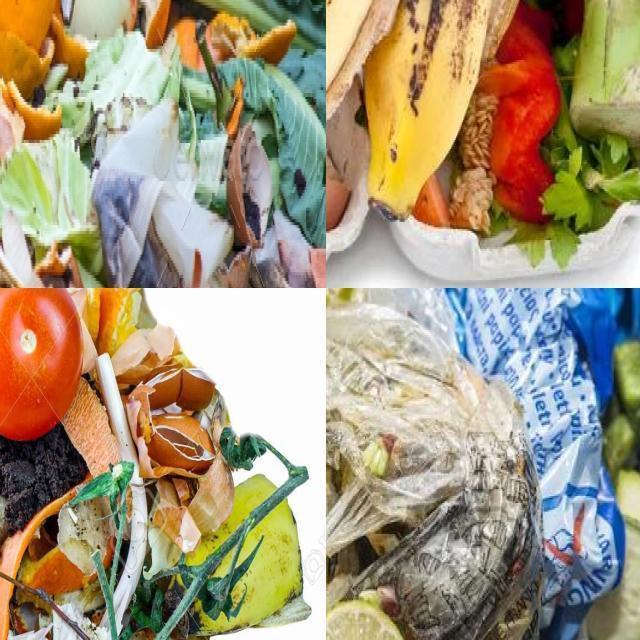Garbage: (0, 288, 322, 640), (326, 0, 640, 288), (326, 288, 541, 640), (445, 288, 640, 640), (355, 288, 455, 348)
Plastic: (92, 96, 234, 288), (352, 288, 459, 351)
contaminated_waste: (326, 304, 540, 640), (326, 304, 524, 611), (390, 217, 561, 281), (565, 203, 640, 270)
